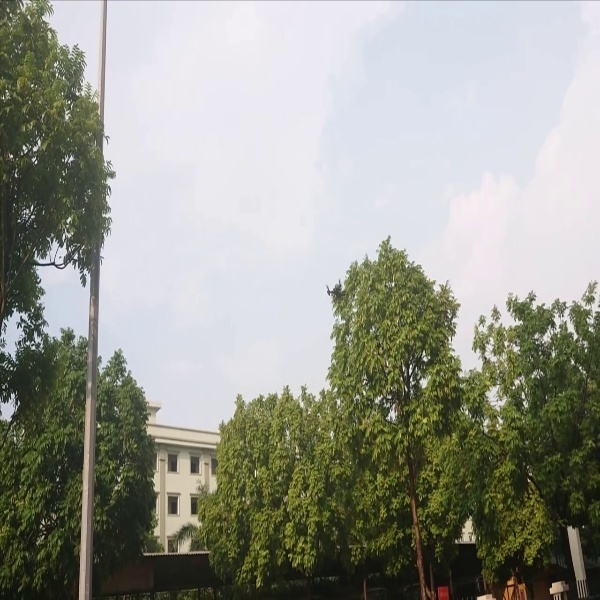drone: (326, 281, 348, 306)
